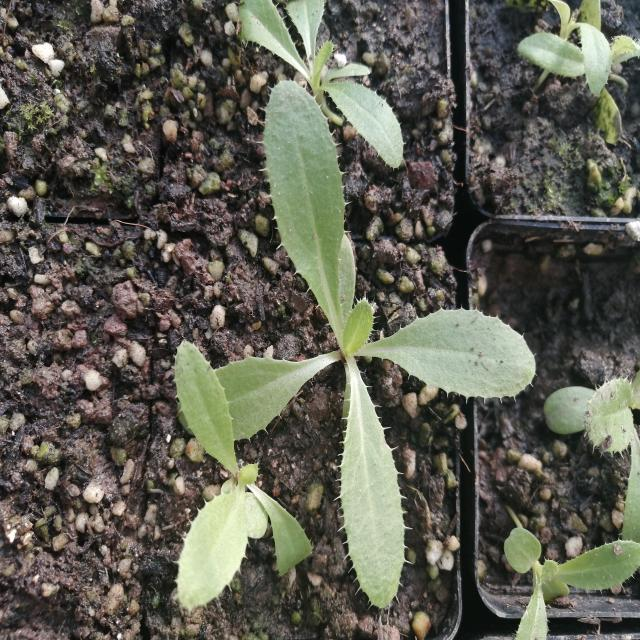field_thistle: (268, 88, 484, 571), (158, 334, 338, 610)
